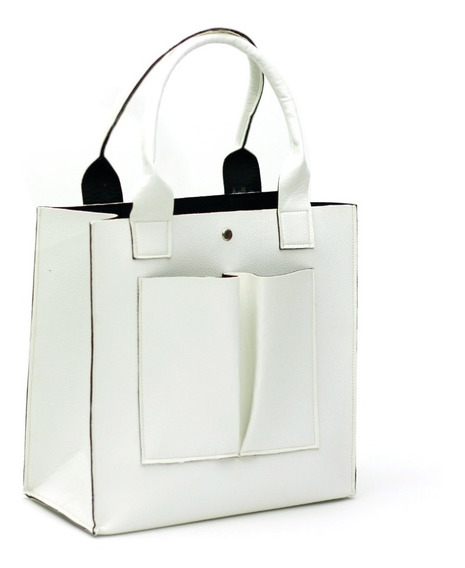cartera: (20, 27, 360, 537)
